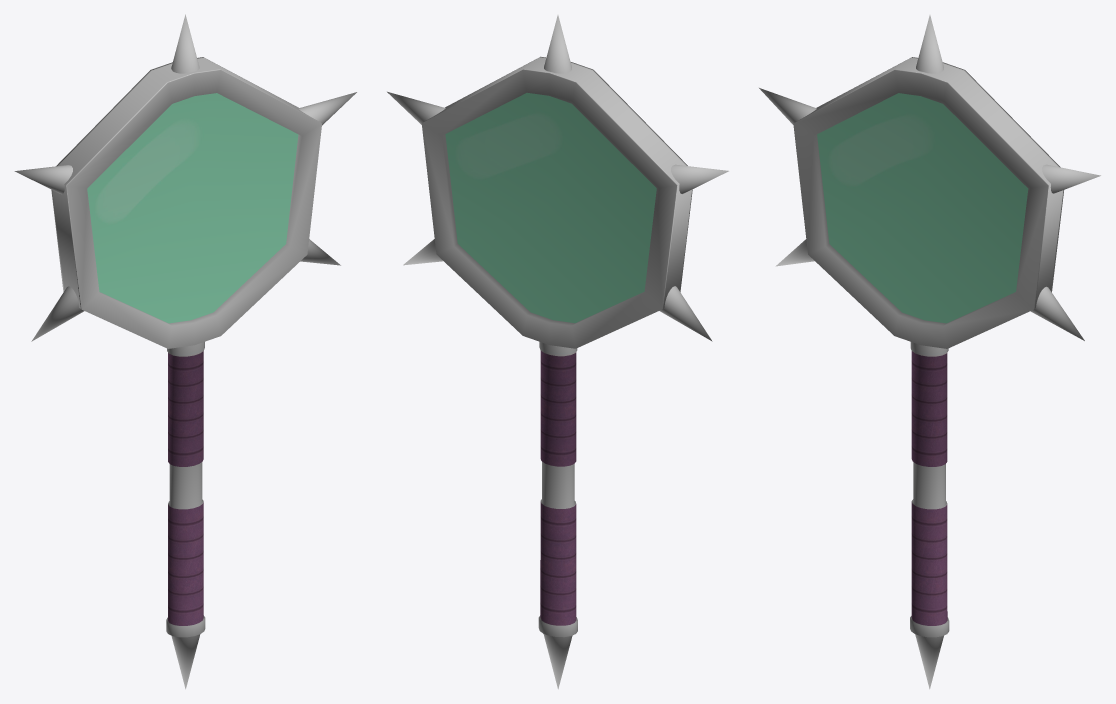
The model's file is weapon2.fbx.
3 renders of one model, left to right at view 1: azimuth 30°, elevation 25°; view 2: azimuth 150°, elevation 25°; view 3: azimuth 330°, elevation 25°, orthographic.
Parts seen in each view (by area): view 1: weapon; view 2: weapon; view 3: weapon.
Part boxes in pixels (x1=…): weapon: x1=14, y1=14, x2=356, y2=689; weapon: x1=387, y1=15, x2=728, y2=689; weapon: x1=759, y1=15, x2=1100, y2=689.
Size of the model in its own units: 1.27 by 2.38 by 0.1139.
1 material, 1 textured.
